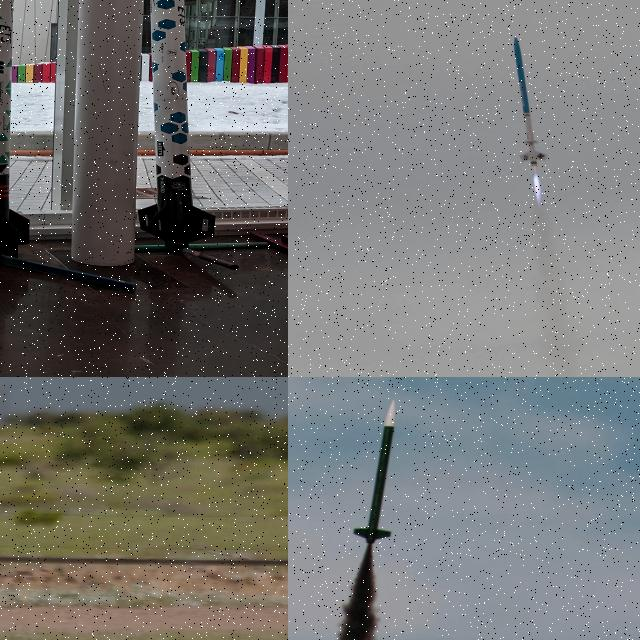Rocket: (137, 0, 216, 248), (0, 377, 26, 640), (353, 398, 397, 544), (511, 36, 549, 168)
